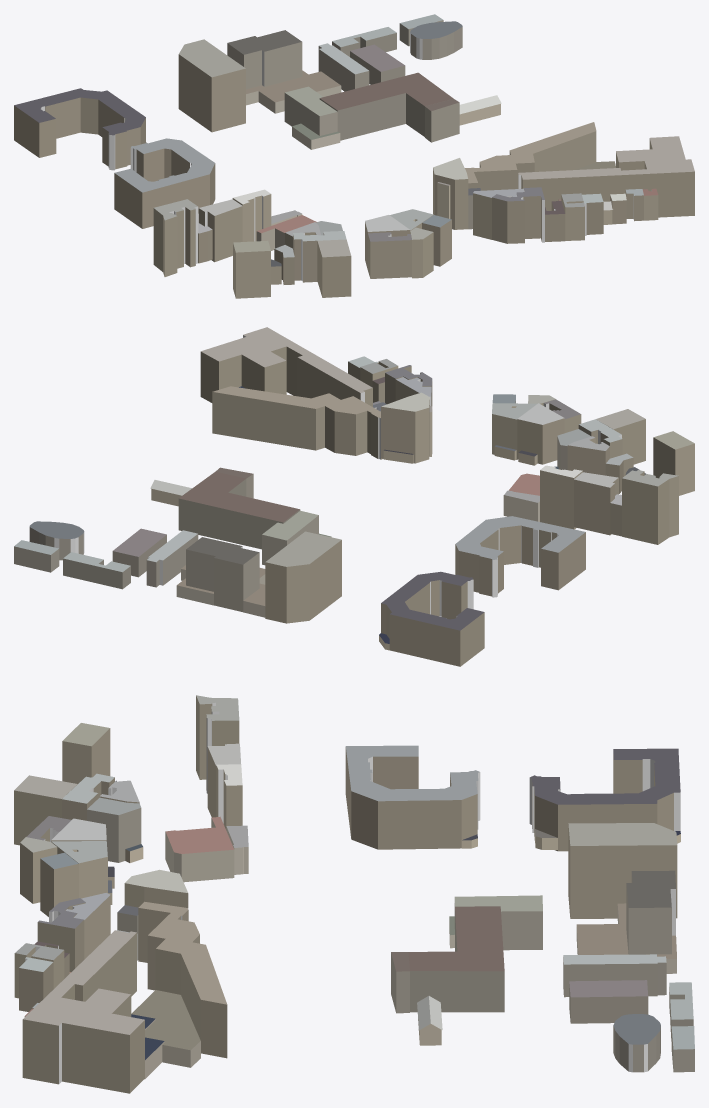
3 renders of one model, top to bottom at view 1: azimuth 30°, elevation 25°; view 2: azimuth 150°, elevation 25°; view 3: azimuth 270°, elevation 25°, orthographic. The views are drawn at different scales.
Visible parts, largest first — view 1: tuile; view 2: tuile; view 3: tuile.
Part boxes in pixels (x1,y1,x2,y2): tuile: (14, 14, 694, 298); tuile: (14, 327, 694, 666); tuile: (14, 695, 694, 1093).
Bounding box in the file's own units: 283 × 34.95 × 256.
